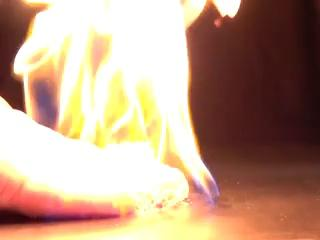Fire: (12, 0, 220, 210)
